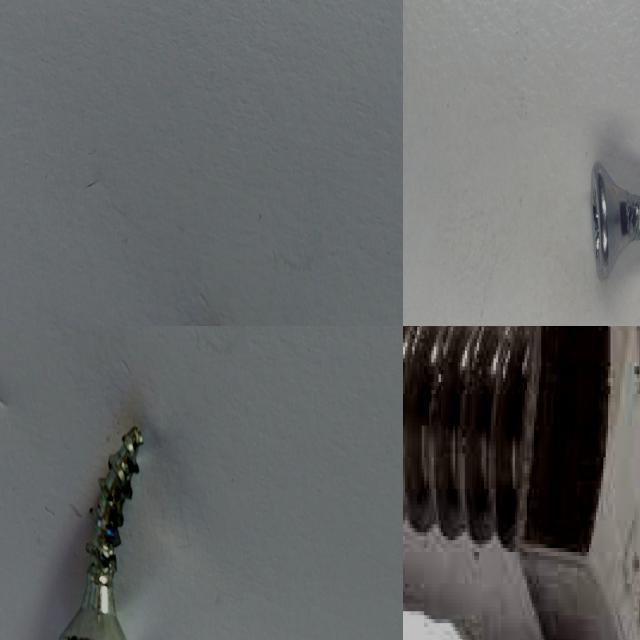Screw: (403, 326, 640, 640), (59, 426, 143, 640), (590, 158, 640, 281)
